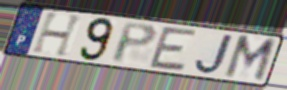9: (77, 16, 117, 63)
E: (146, 25, 200, 74)
H: (30, 11, 87, 59)
J: (193, 33, 236, 76)
M: (221, 34, 279, 85)
P: (110, 21, 159, 65)
